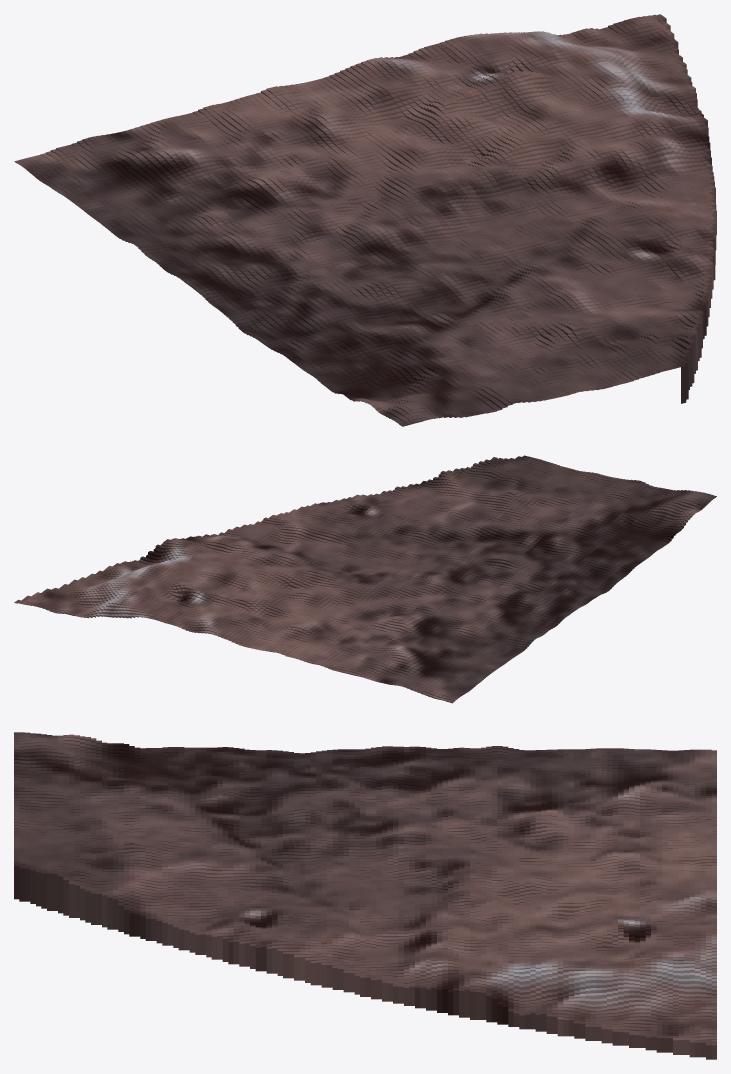
File: chunk-35.glb
3 views of the same model, one above another, from view 1: azimuth 30°, elevation 25°; view 2: azimuth 150°, elevation 25°; view 3: azimuth 270°, elevation 25° (orthographic). The views are drawn at different scales.
Visible parts, largest first — view 1: Mesh_0.051; view 2: Mesh_0.051; view 3: Mesh_0.051.
Boxes of the visible parts, bbox=[...] form: Mesh_0.051: bbox=[14, 14, 716, 426]; Mesh_0.051: bbox=[14, 455, 716, 703]; Mesh_0.051: bbox=[14, 732, 716, 1059].
Size of the model in its own units: 30750 by 2184 by 32000.
